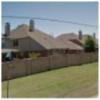chimneys: (4, 21, 11, 37), (28, 19, 35, 33), (78, 30, 83, 42)
